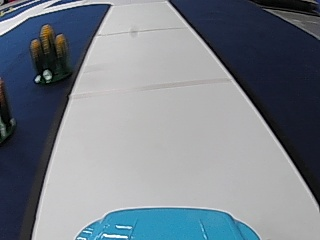corn: (29, 22, 72, 86)
